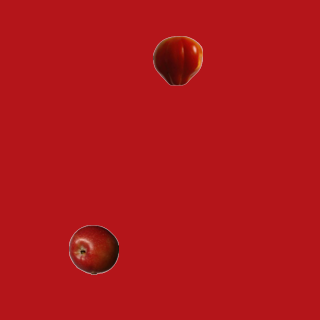Apple Braeburn: (68, 224, 118, 274)
Tomato 1: (152, 35, 202, 85)
